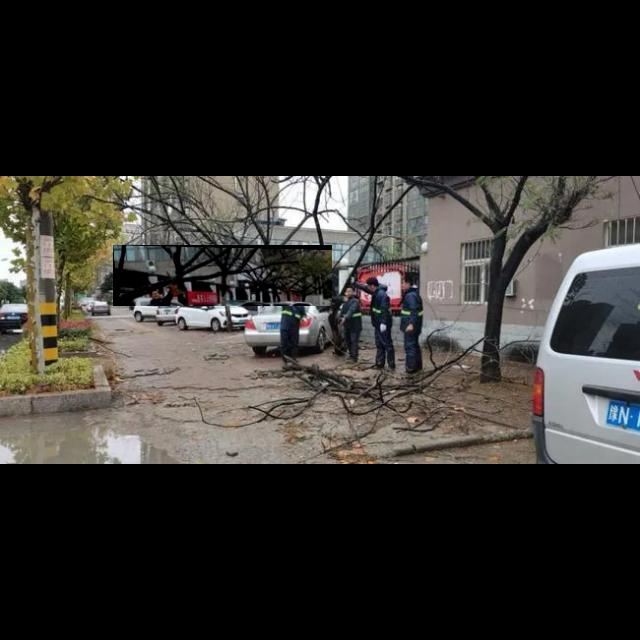Fallen Tree: (113, 245, 333, 307)
